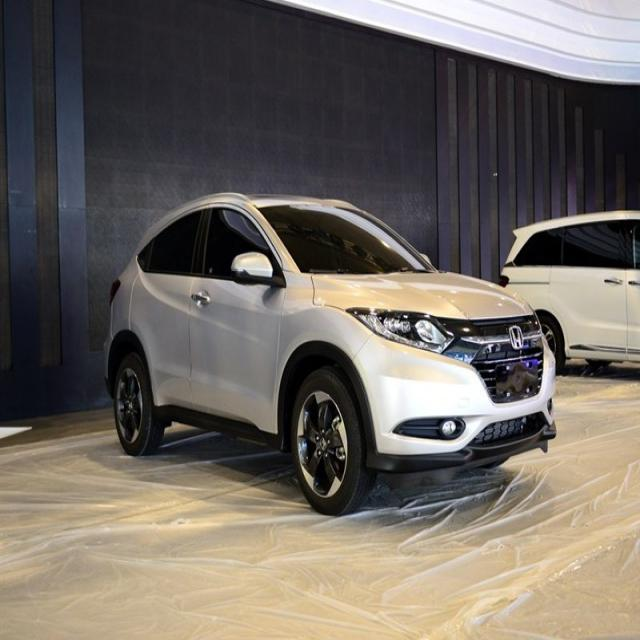back_right_side_light: (107, 276, 123, 304)
door: (130, 208, 205, 412)
front_bumper: (349, 333, 556, 472)
front_glass: (256, 204, 434, 276)
front_right_side_door: (186, 200, 286, 439)
front_right_side_light: (344, 306, 455, 362)
front_right_side_mirror: (230, 250, 274, 286)
wheel: (291, 370, 364, 514), (114, 354, 162, 452)
